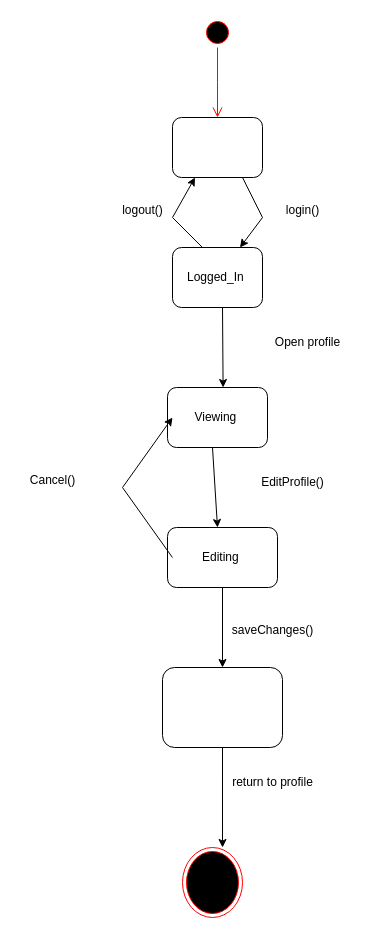
Image size: 369x935. Some labels were removed from this diagram. Each missing label, with the centre of its shape:
Logged_Out: point (217, 147)
Updated: point (222, 707)
